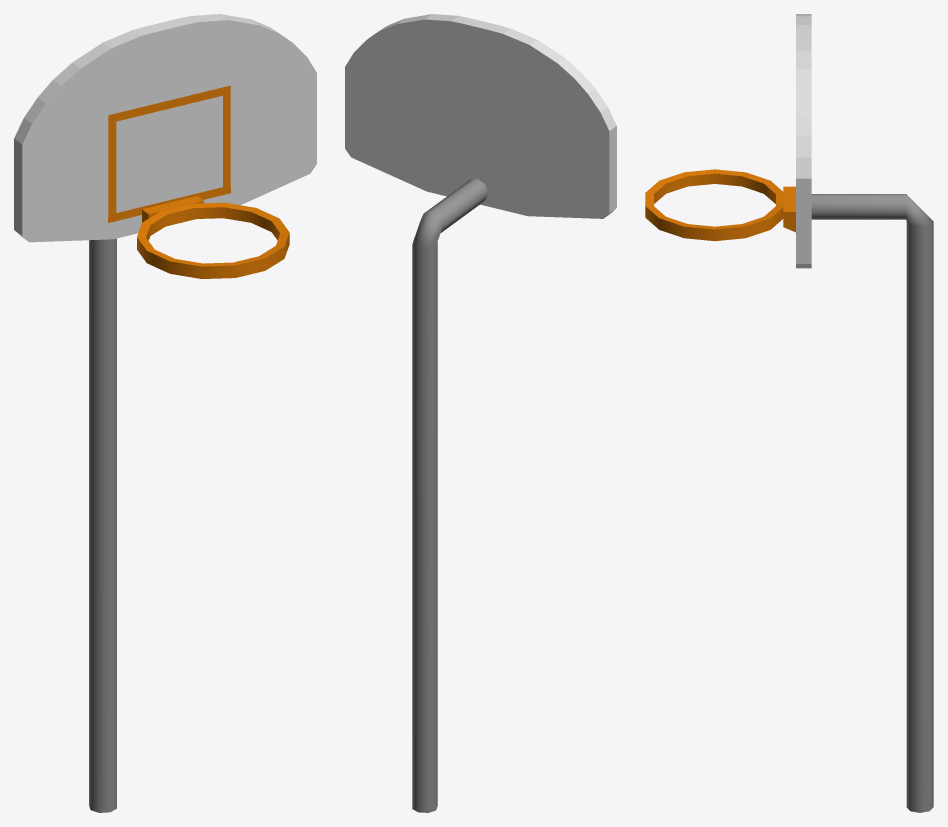
Rendered from BasketballHoop.fbx.
The picture shows the model from 3 angles, left to right: view 1: azimuth 30°, elevation 25°; view 2: azimuth 150°, elevation 25°; view 3: azimuth 270°, elevation 25°; orthographic projection. The views are drawn at different scales.
Parts seen in each view (by area): view 1: BasketballHoop; view 2: BasketballHoop; view 3: BasketballHoop.
Boxes of the visible parts, x1,y1,x2,y2 form: BasketballHoop: (14,14,316,812); BasketballHoop: (345,14,616,812); BasketballHoop: (645,14,933,812).
Size of the model in its own units: 23.45 by 62.93 by 21.34.
